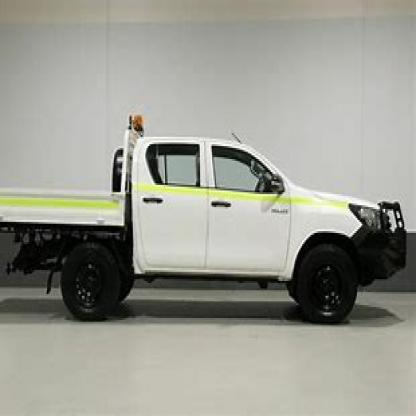light_vehicle: (2, 115, 410, 331)
